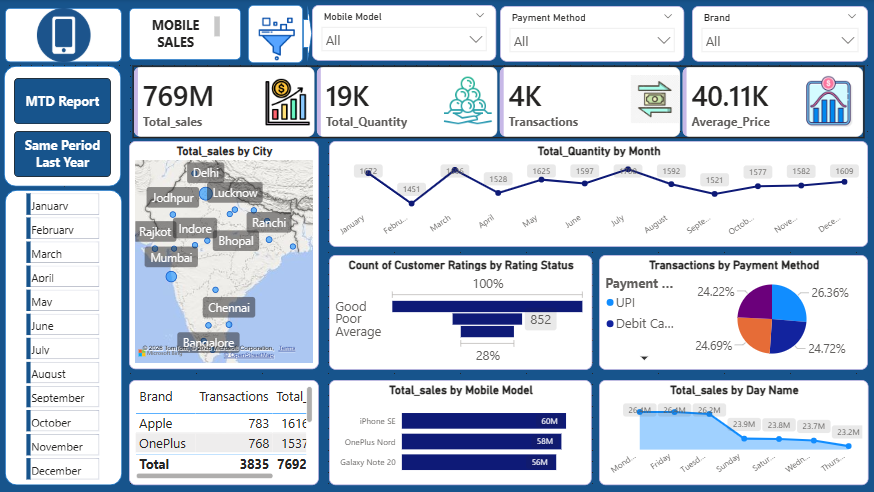

What the dashboard file says about the page in this screenshot:
{"tool":"powerbi","page":{"name":"Dashboard","canvas":[1280,720],"ordinal":0},"visuals":[{"type":"shape","box":[10.1,13.4,169.7,79],"z":0},{"type":"image","box":[11.8,13.4,168,79],"z":1000},{"type":"shape","box":[8.4,97.7,170.1,175.2],"z":2000},{"type":"shape","box":[9.9,277.8,170.1,429.4],"z":3000},{"type":"advancedSlicerVisual","fields":{"Values":["Custom Calender.Date.Variation.Date Hierarchy.Month"]},"box":[36.9,277.8,116.2,429.4],"z":4000},{"type":"slicer","fields":{"Values":["Mobile sales Data.Mobile Model"]},"box":[456.7,8.7,267.6,81.5],"z":5000},{"type":"shape","box":[363.6,8.7,80,84.4],"z":6000},{"type":"slicer","fields":{"Values":["Mobile sales Data.Payment Method"]},"box":[730.2,10.2,267.6,81.5],"z":7000},{"type":"cardVisual","fields":{"Data":["Mobile sales Data.Total_sales","Mobile sales Data.Total_Quantity","Mobile sales Data.Transactions","Mobile sales Data.Average_Price"]},"box":[190.3,90.9,1076.2,116.2],"z":8000},{"type":"slicer","fields":{"Values":["Mobile sales Data.Brand"]},"box":[1009.5,10.2,256,81.5],"z":9000},{"type":"image","box":[375.3,114.9,91.6,69.8],"z":10000},{"type":"image","box":[353.5,26.2,103.3,64],"z":11000},{"type":"image","box":[913.5,110.5,84.4,69.8],"z":12000},{"type":"image","box":[1163.6,110.5,90.2,77.1],"z":13000},{"type":"image","box":[644.4,110.5,78.5,74.2],"z":14000},{"type":"shape","box":[443.6,8.7,13.1,82.9],"z":15000},{"type":"shape","box":[190.5,13.1,162.9,75.6],"z":16000},{"type":"textbox","box":[203.6,20.4,123.6,64],"z":17000},{"type":"map","fields":{"Category":["Mobile sales Data.City"],"Size":["Mobile sales Data.Total_sales"]},"box":[190.3,207.2,276.2,331.8],"z":18000},{"type":"lineChart","fields":{"Y":["Mobile sales Data.Total_Quantity"],"Category":["Custom Calender.Date.Variation.Date Hierarchy.Month"]},"box":[481.5,206.5,784,154.2],"z":19000},{"type":"funnel","fields":{"Category":["Mobile sales Data.Rating Status","Mobile sales Data.Customer Ratings"],"Y":["CountNonNull(Mobile sales Data.Customer Ratings)"]},"box":[481.5,372.4,382.5,167.3],"z":20000},{"type":"pieChart","fields":{"Y":["Mobile sales Data.Transactions"],"Category":["Mobile sales Data.Payment Method"]},"box":[874.2,372.4,391.3,167.3],"z":21000},{"type":"clusteredBarChart","fields":{"Y":["Mobile sales Data.Total_sales"],"Category":["Mobile sales Data.Mobile Model"]},"box":[481.7,554.1,382.3,153.3],"z":22000},{"type":"areaChart","fields":{"Y":["Mobile sales Data.Total_sales"],"Category":["Custom Calender.Day Name"]},"box":[874.1,554.1,392.4,153.3],"z":23000},{"type":"tableEx","fields":{"Values":["Mobile sales Data.Brand","Mobile sales Data.Transactions","Mobile sales Data.Total_sales"]},"box":[190.3,554.1,276.2,153.3],"z":24000},{"type":"pageNavigator","box":[23.3,114.9,141.1,145.5],"z":25000}]}

Visuals, with their boxes in screenshot pixels (x1, y1, x2, y2), scaled from the page's 1280x720 canvas onto the 874x492 screenshot:
shape: bbox(7, 9, 123, 63)
image: bbox(8, 9, 123, 63)
shape: bbox(6, 67, 122, 186)
shape: bbox(7, 190, 123, 483)
advancedSlicerVisual - Custom Calender.Date.Variation.Date Hierarchy.Month: bbox(25, 190, 105, 483)
slicer - Mobile sales Data.Mobile Model: bbox(312, 6, 495, 62)
shape: bbox(248, 6, 303, 64)
slicer - Mobile sales Data.Payment Method: bbox(499, 7, 681, 63)
cardVisual - Mobile sales Data.Total_sales x Mobile sales Data.Total_Quantity: bbox(130, 62, 865, 142)
slicer - Mobile sales Data.Brand: bbox(689, 7, 864, 63)
image: bbox(256, 79, 319, 126)
image: bbox(241, 18, 312, 62)
image: bbox(624, 76, 681, 123)
image: bbox(795, 76, 856, 128)
image: bbox(440, 76, 494, 126)
shape: bbox(303, 6, 312, 63)
shape: bbox(130, 9, 241, 61)
textbox: bbox(139, 14, 223, 58)
map - Mobile sales Data.City x Mobile sales Data.Total_sales: bbox(130, 142, 319, 368)
lineChart - Mobile sales Data.Total_Quantity x Custom Calender.Date.Variation.Date Hierarchy.Month: bbox(329, 141, 864, 246)
funnel - Mobile sales Data.Rating Status x Mobile sales Data.Customer Ratings: bbox(329, 254, 590, 369)
pieChart - Mobile sales Data.Transactions x Mobile sales Data.Payment Method: bbox(597, 254, 864, 369)
clusteredBarChart - Mobile sales Data.Total_sales x Mobile sales Data.Mobile Model: bbox(329, 379, 590, 483)
areaChart - Mobile sales Data.Total_sales x Custom Calender.Day Name: bbox(597, 379, 865, 483)
tableEx - Mobile sales Data.Brand x Mobile sales Data.Transactions: bbox(130, 379, 319, 483)
pageNavigator: bbox(16, 79, 112, 178)
